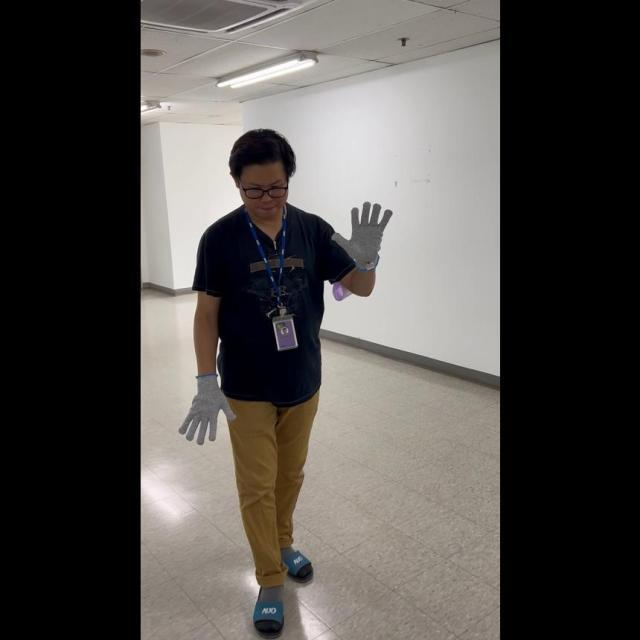gloved_hand: (328, 199, 392, 270), (178, 371, 235, 442)
